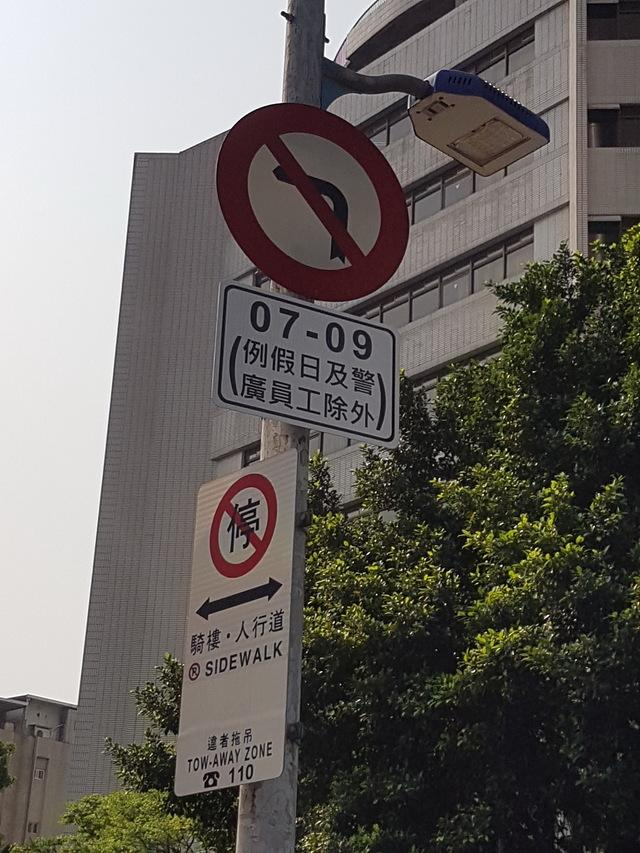no_left_turn: (212, 100, 409, 300)
